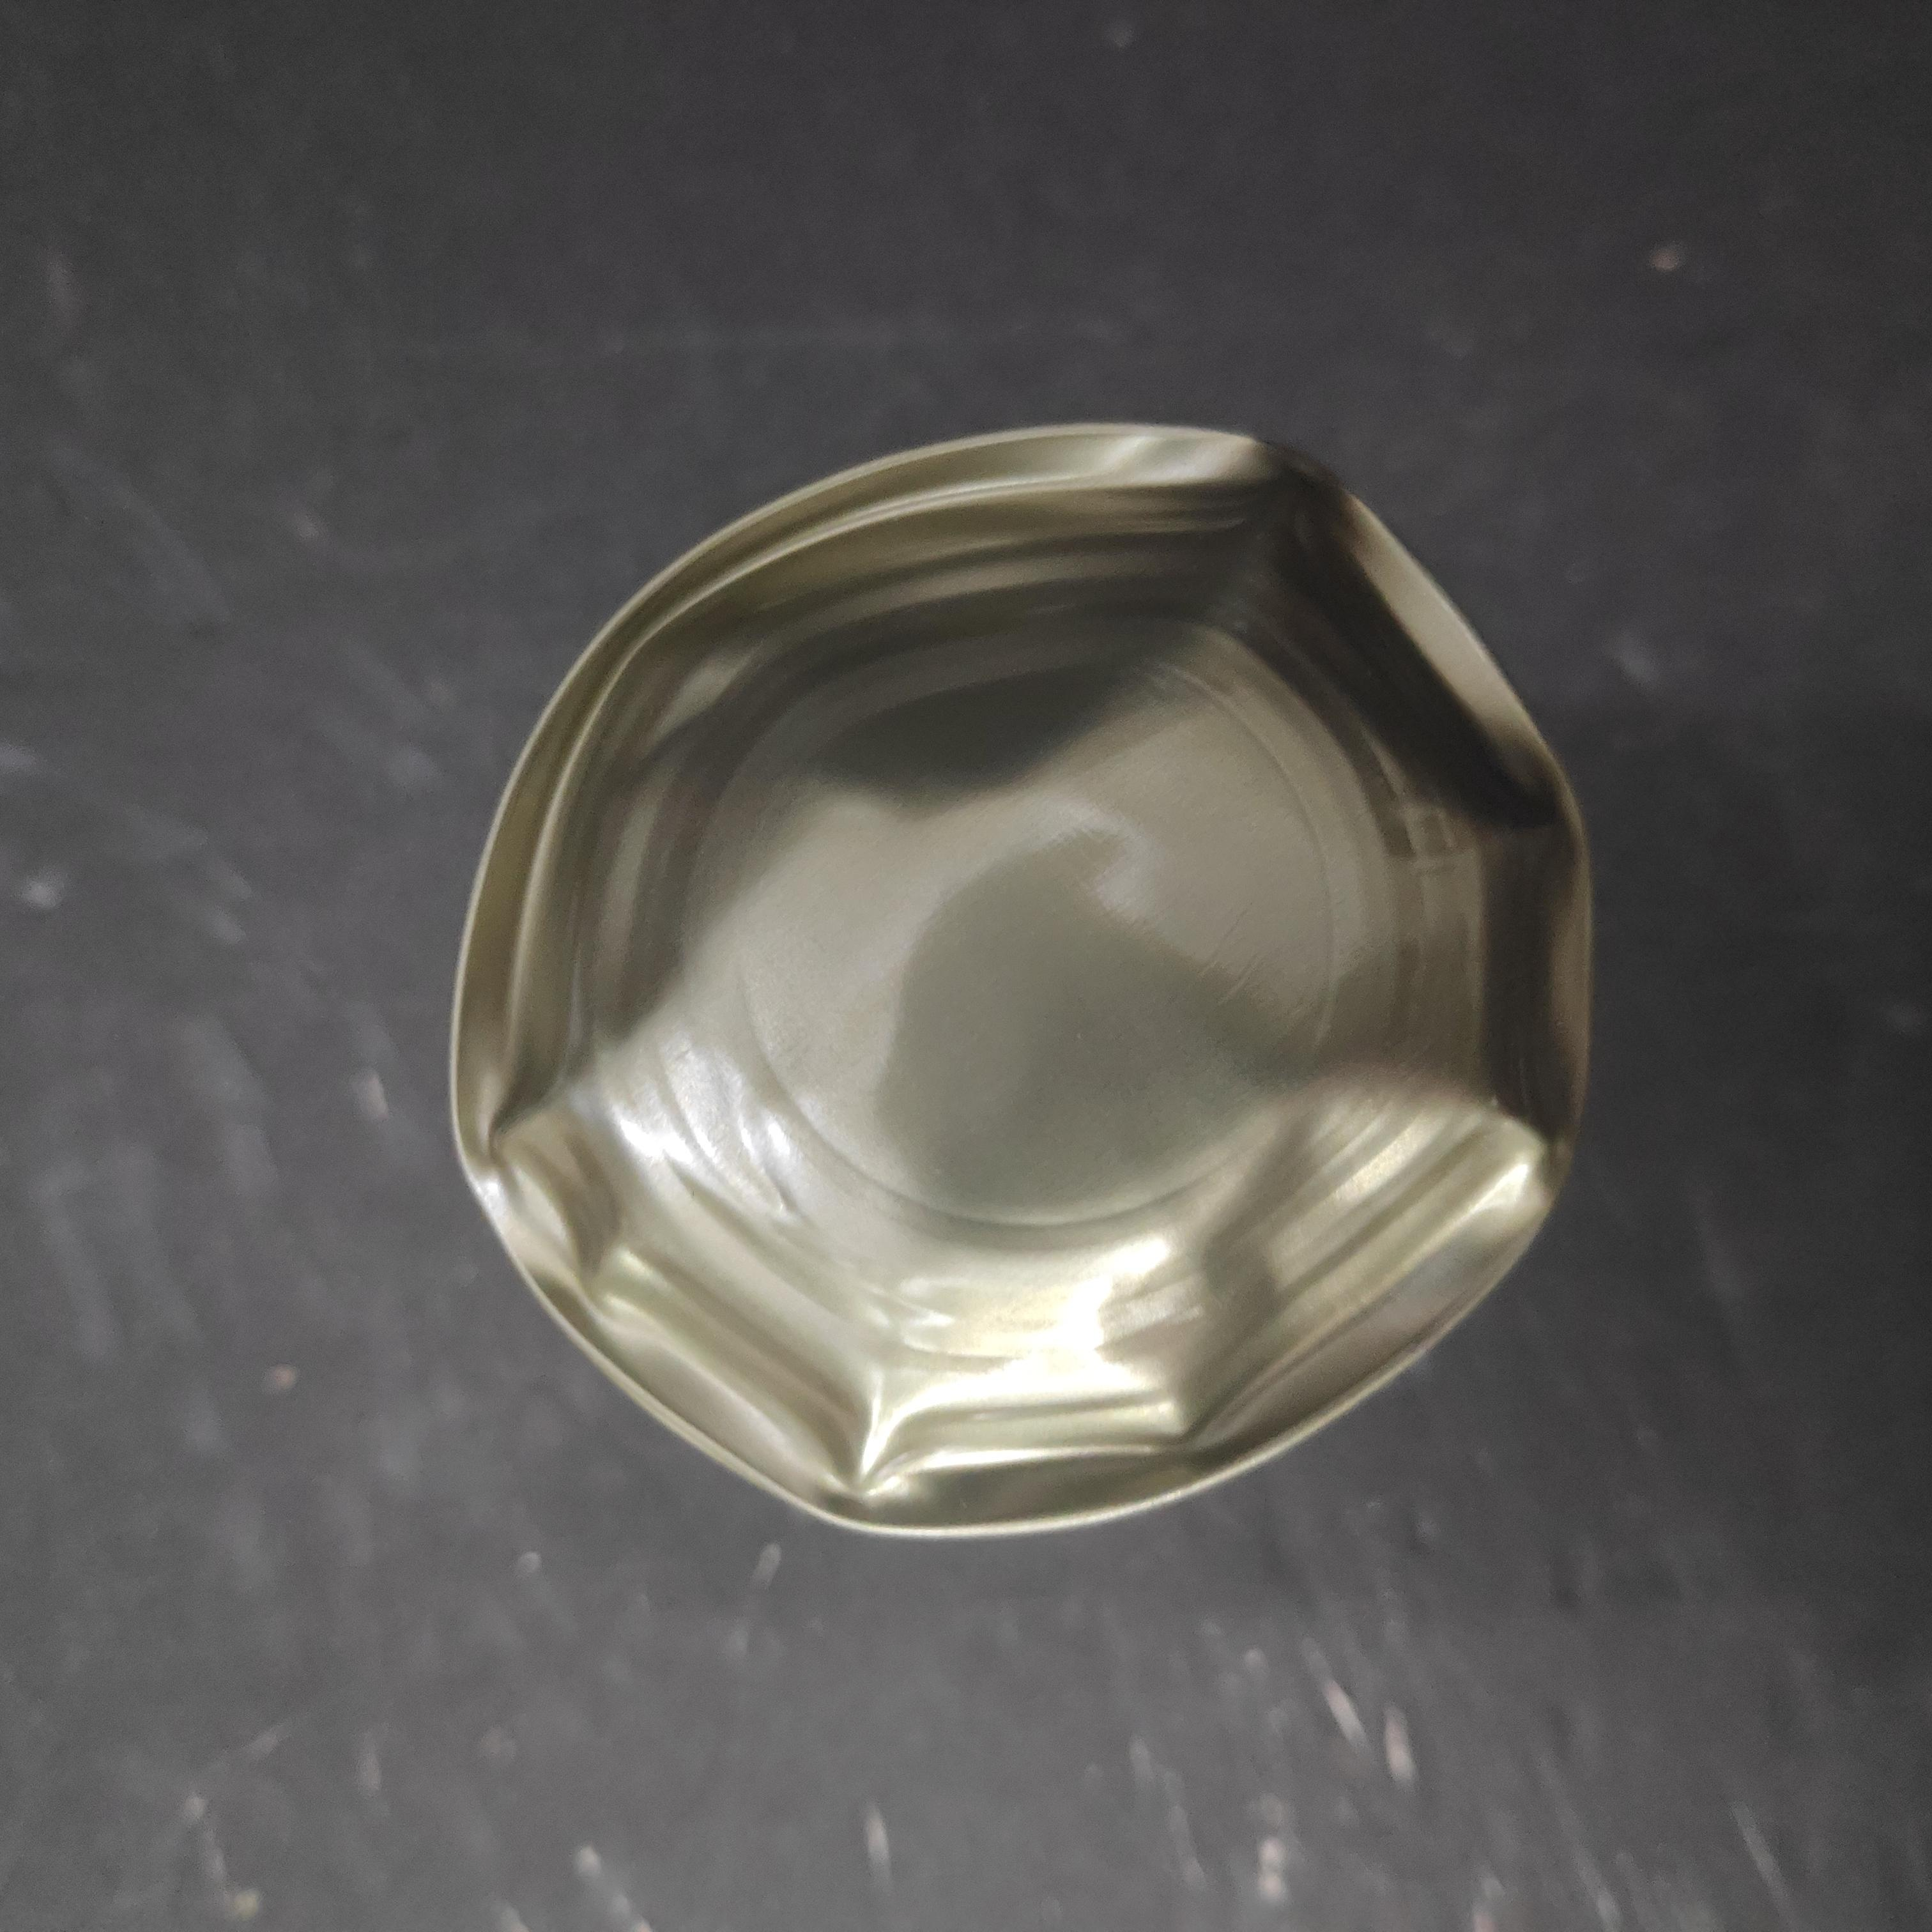Critical Defect: (372, 429, 1537, 1617)
